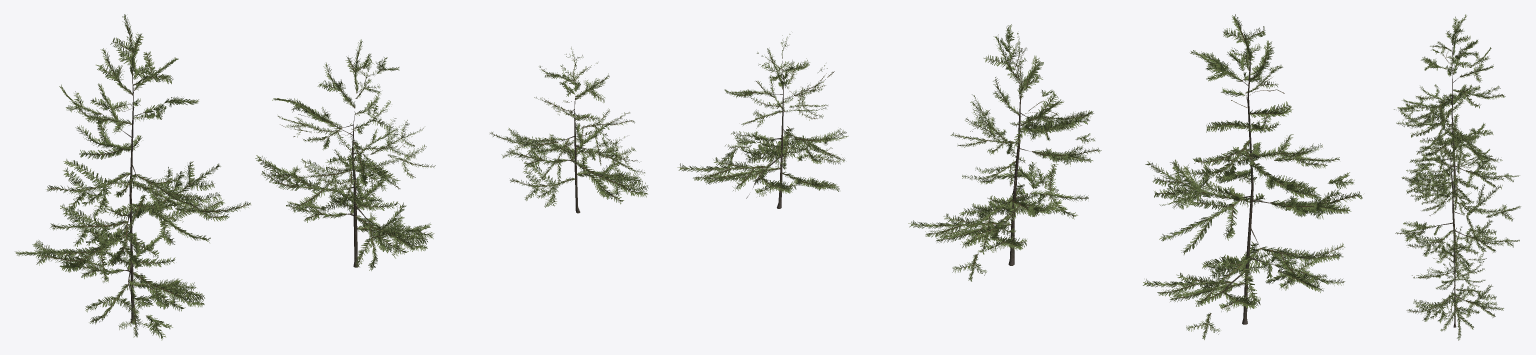
Rendered from fir_sapling.glb.
3 renders of one model, left to right at view 1: azimuth 30°, elevation 25°; view 2: azimuth 150°, elevation 25°; view 3: azimuth 270°, elevation 25°, orthographic. The views are drawn at different scales.
Parts seen in each view (by area): view 1: fir_sapling_a; view 2: fir_sapling_a; view 3: fir_sapling_a.
Boxes of the visible parts, x1,y1,x2,y2 form: fir_sapling_a: (15,14,648,340); fir_sapling_a: (677,14,1362,339); fir_sapling_a: (1394,14,1520,340).
Bounding box in the file's own units: 2.74 × 1.3 × 0.8259.
2 materials, 2 textured.
